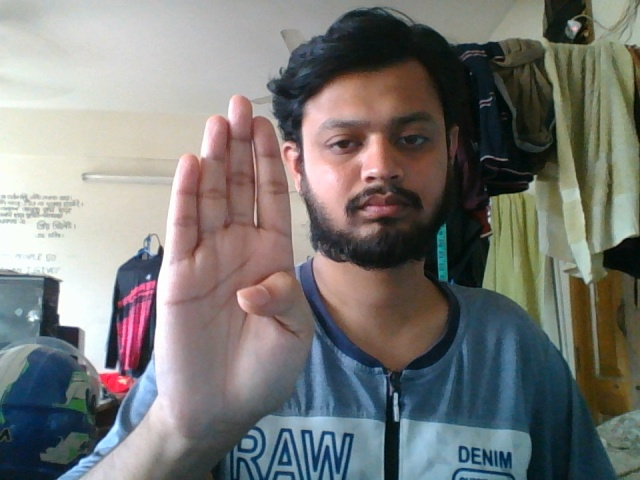ba: (155, 87, 326, 473)
